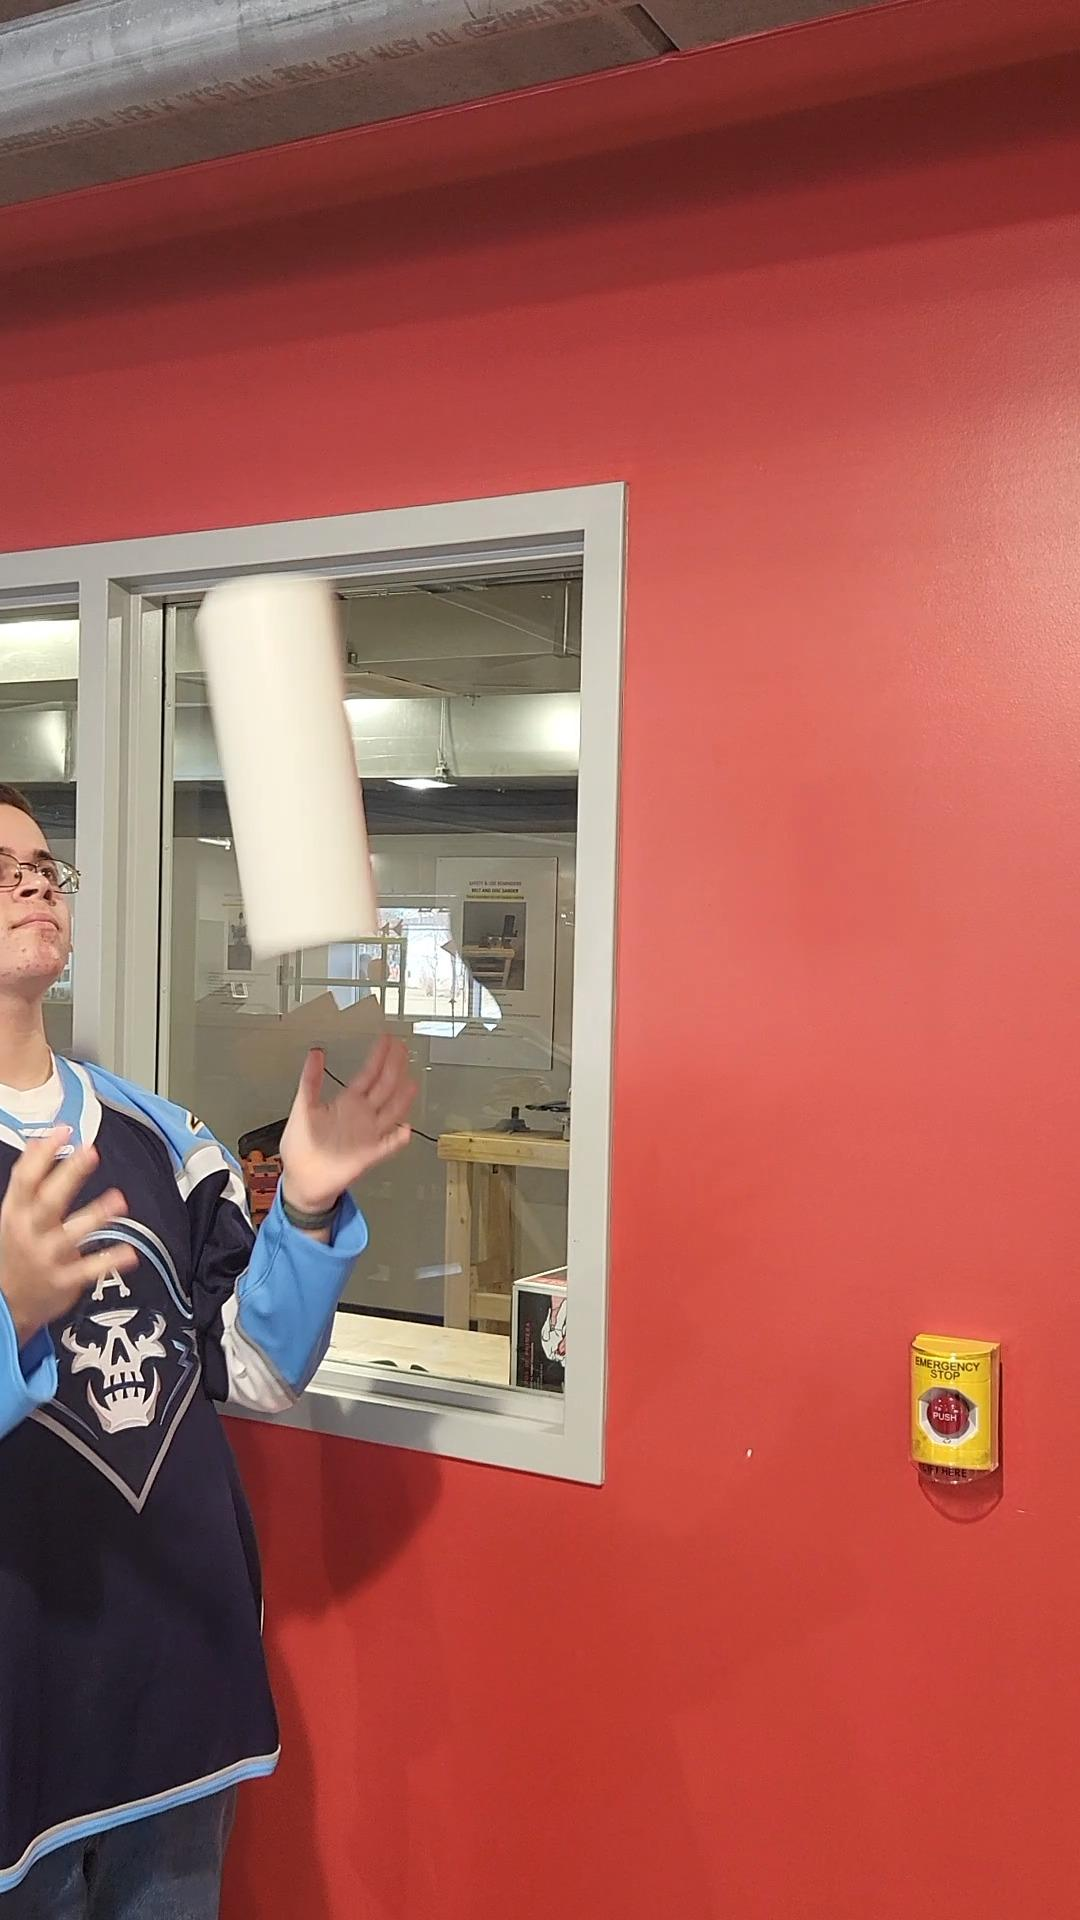coral: (190, 574, 404, 971)
